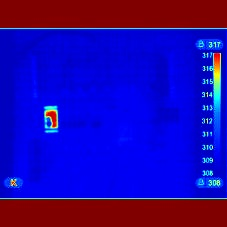Less: (35, 112, 68, 140)
